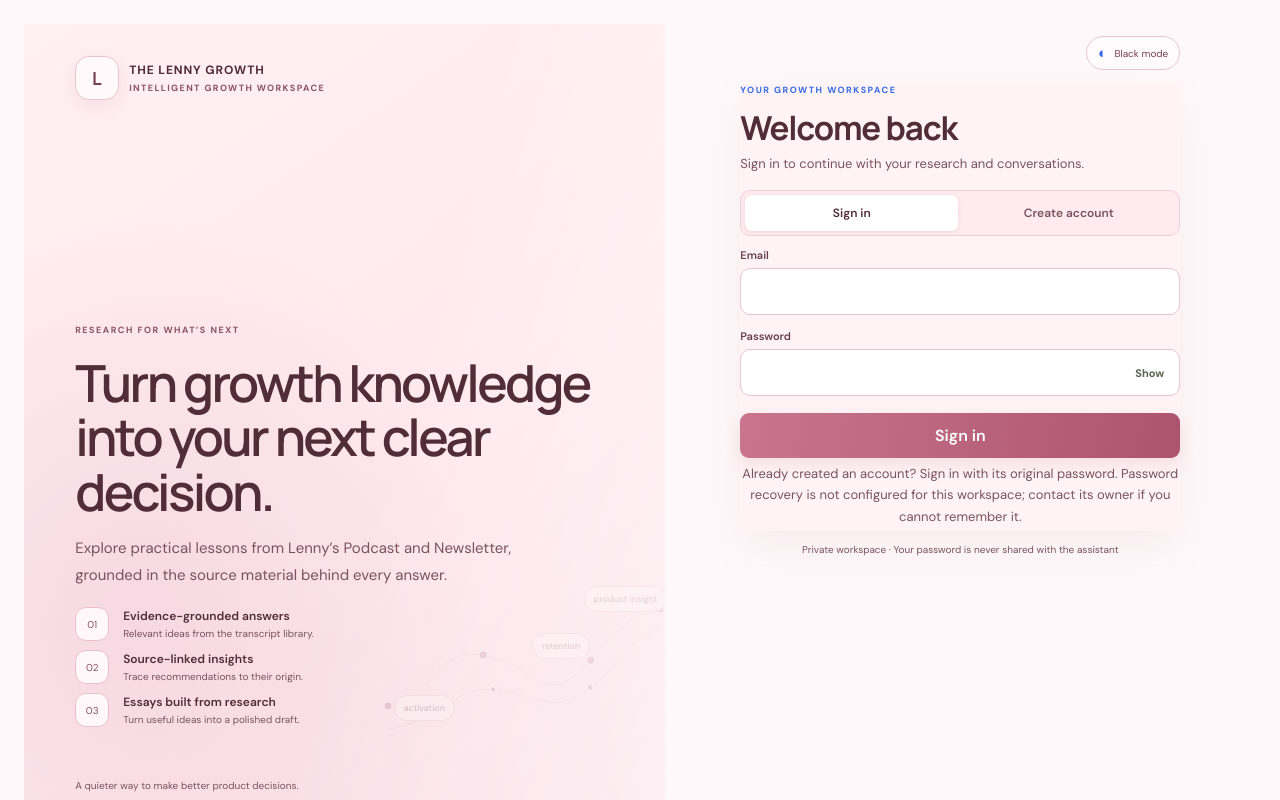
Test: App › provides explicit sign-in and registration tabs and a password visibility control
Check: the heading "Welcome back" is shown, box [740,105,957,150]
Click the button with aria-label "Show password" at coordinates (1150, 372), box [1129,364,1170,380]
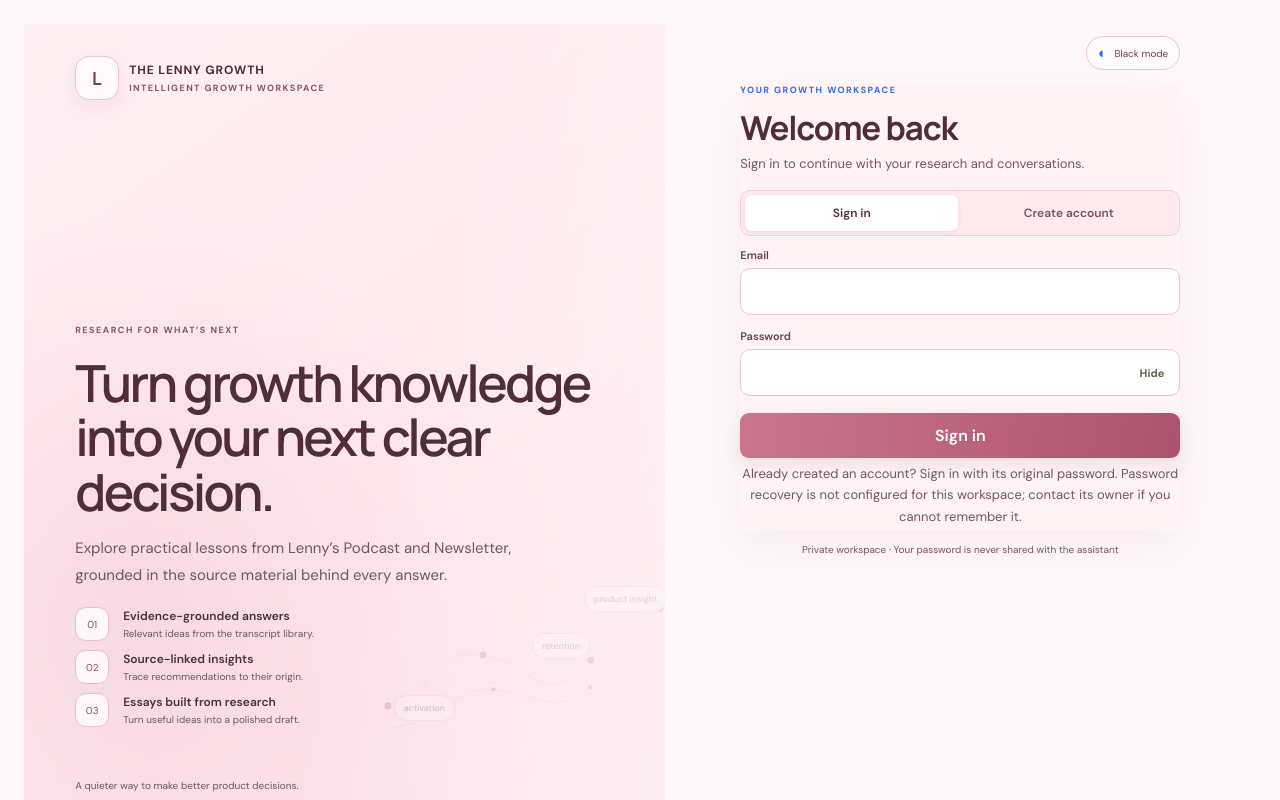
Click the tab "Create account" at coordinates (1069, 213), box [962,195,1175,231]
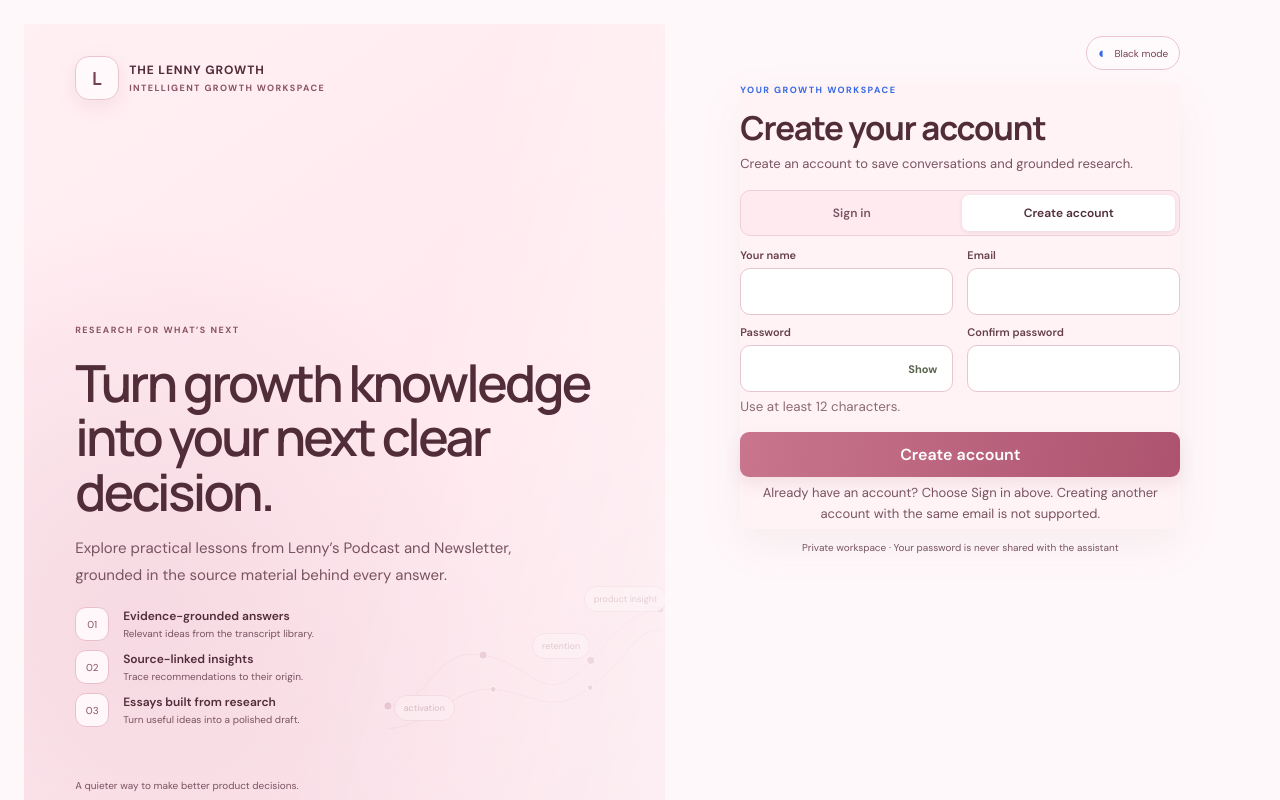
Check: the heading "Create your account" is shown, box [740,105,1046,150]
